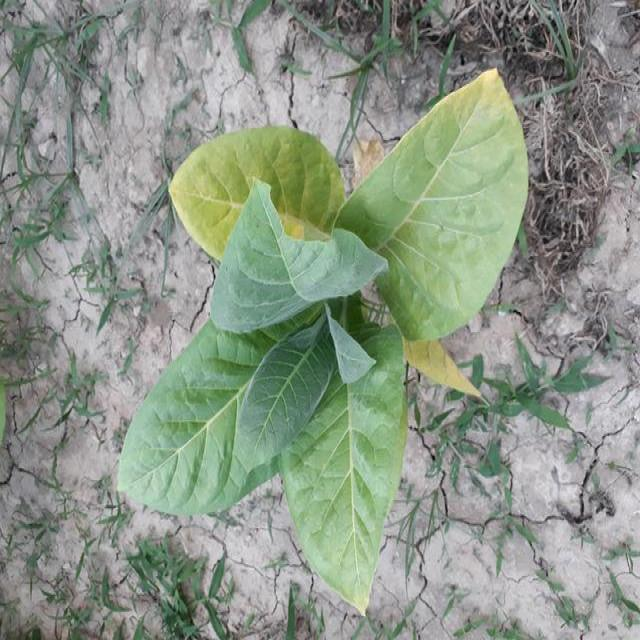crop: (122, 80, 530, 614)
